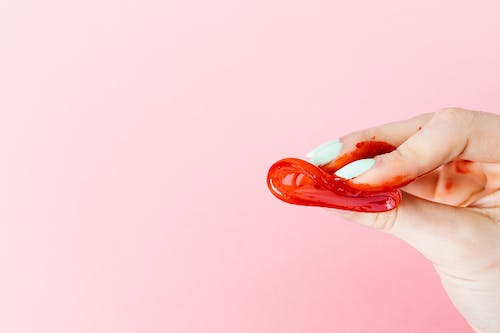blood: (315, 123, 474, 193), (264, 156, 403, 214)
